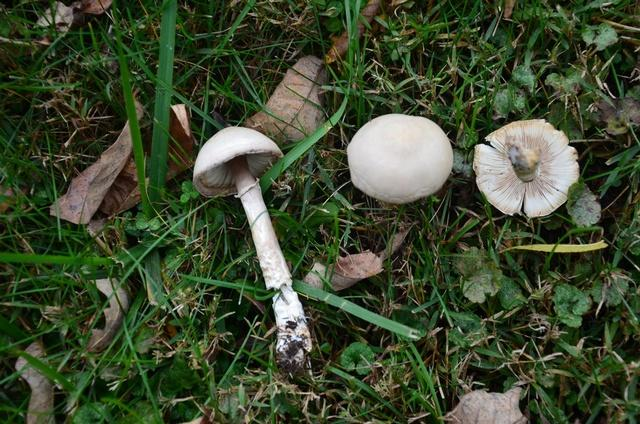poisonous_mushroom: (191, 125, 313, 377), (472, 117, 580, 218), (346, 112, 454, 204)
